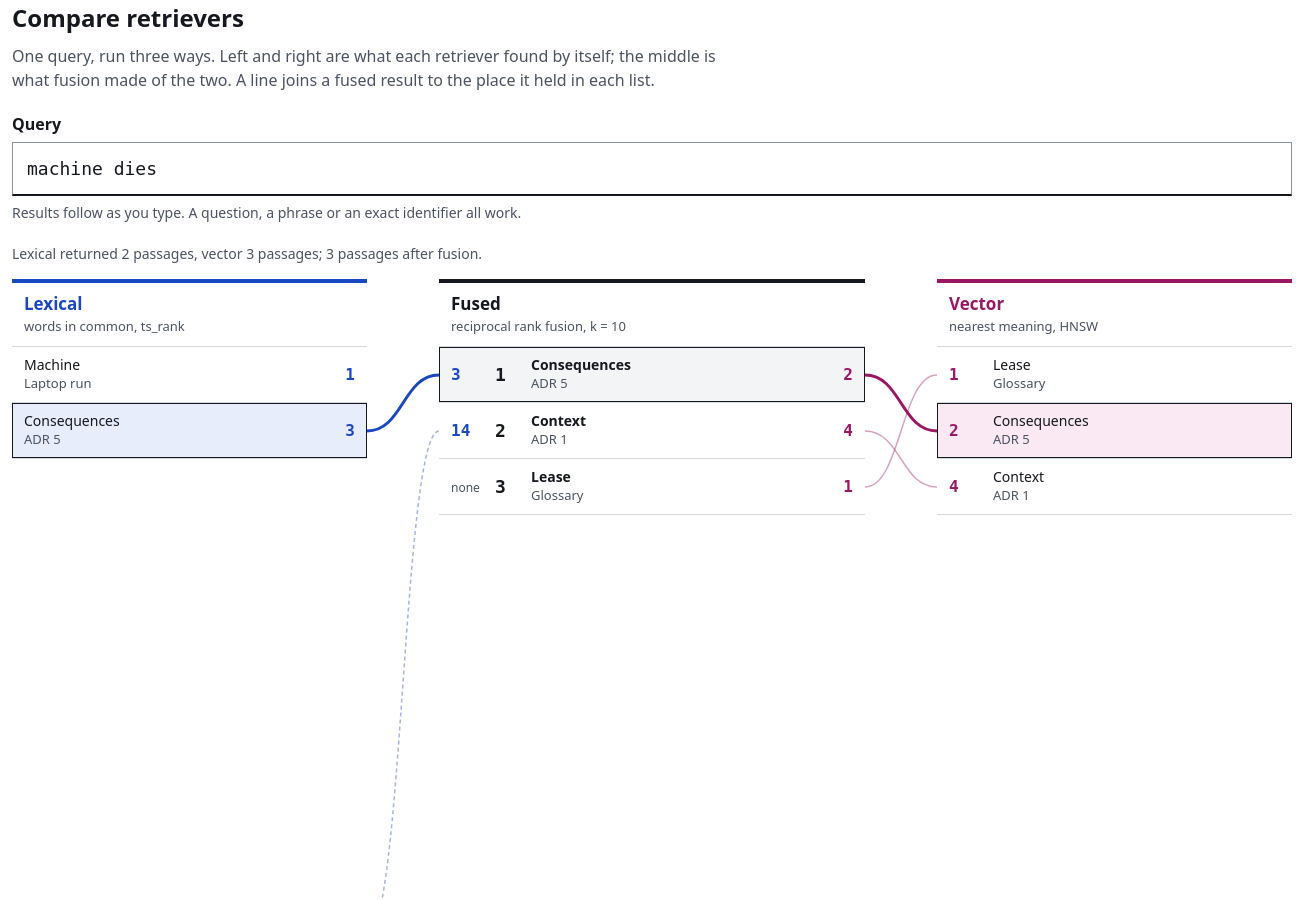
it: the comparison view › says what is known about a passage that one retriever listed and fusion left out
Check: the element "Fused" is shown, box [439,279,865,515]
Click the button "1 Machine Laptop run" at (52, 365), box [12,347,367,402]
(page scrolled)
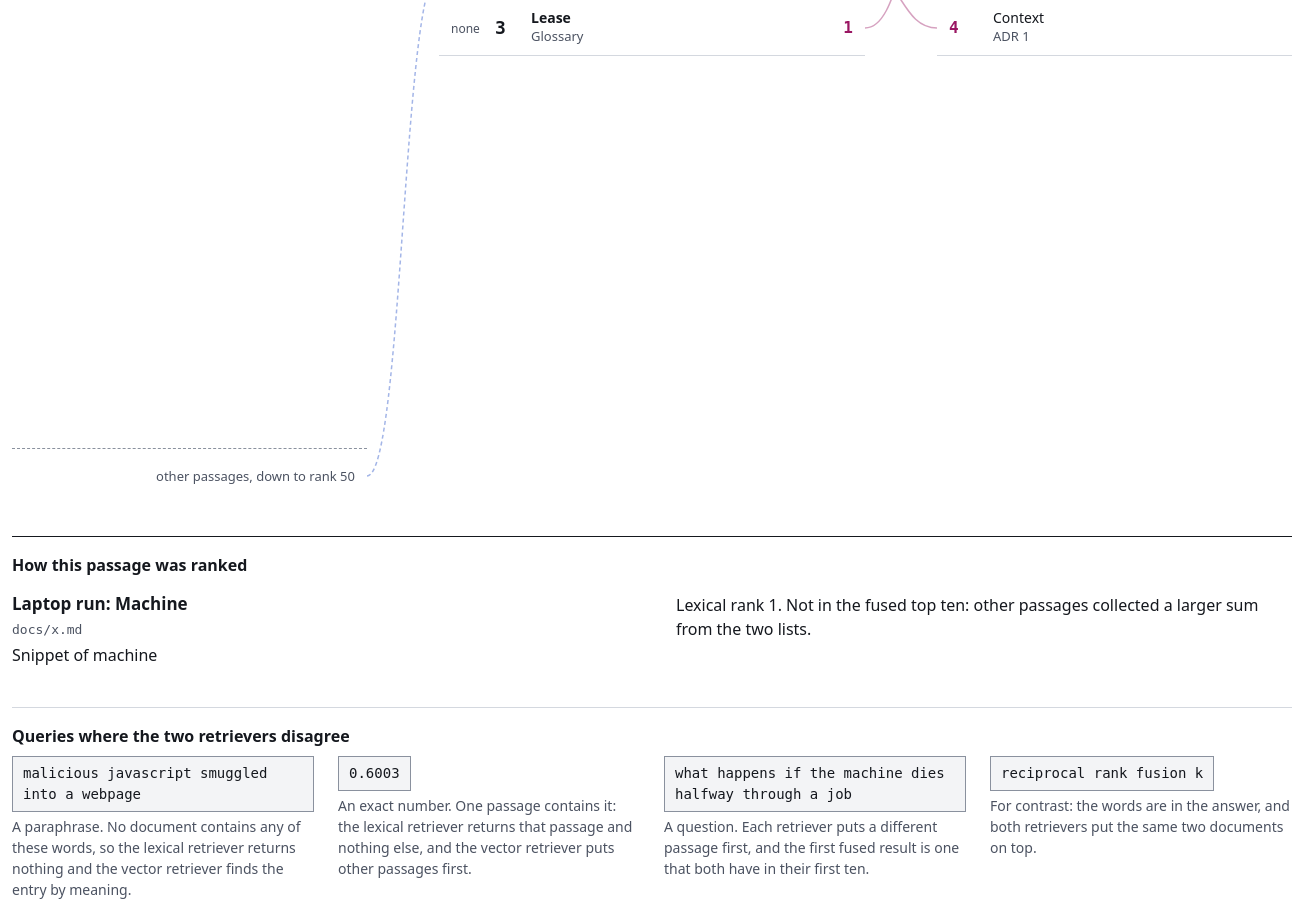
Check: the heading "Laptop run: Machine" is shown, box [12,592,188,615]
